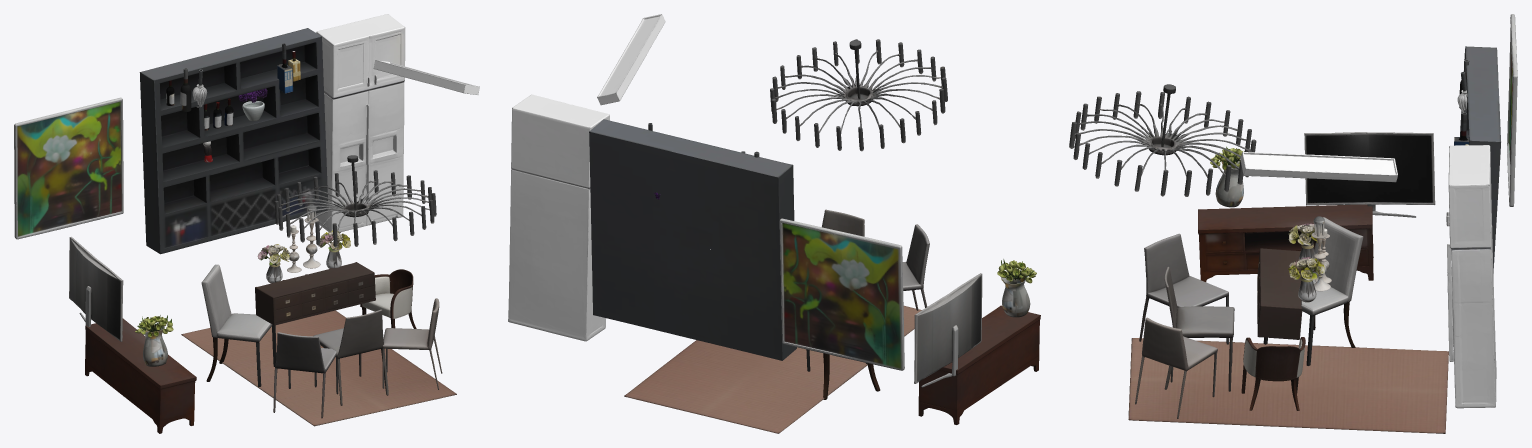
Rendered from sam3d.glb.
3 renders of one model, left to right at view 1: azimuth 30°, elevation 25°; view 2: azimuth 150°, elevation 25°; view 3: azimuth 270°, elevation 25°, orthographic. The views are drawn at different scales.
Visible parts, largest first — view 1: object_9, object_27, object_4, object_2, object_6, object_32, object_3, object_1, object_25, object_8, object_11, object_24 (+8 smaller); view 2: object_9, object_27, object_4, object_2, object_6, object_3, object_1, object_43, object_11, object_5, object_8, object_26 (+1 smaller); view 3: object_2, object_27, object_6, object_1, object_3, object_9, object_43, object_32, object_25, object_11, object_10, object_24 (+6 smaller).
Boxes of the visible parts, left/top/right/bottom form: object_9: left=139, top=28, right=328, bottom=254; object_27: left=316, top=14, right=405, bottom=232; object_4: left=14, top=97, right=123, bottom=239; object_2: left=181, top=310, right=456, bottom=426; object_6: left=85, top=318, right=196, bottom=433; object_32: left=255, top=262, right=375, bottom=325; object_3: left=274, top=155, right=436, bottom=247; object_1: left=69, top=237, right=123, bottom=341; object_25: left=201, top=264, right=276, bottom=386; object_8: left=313, top=309, right=388, bottom=405; object_11: left=273, top=332, right=338, bottom=418; object_24: left=360, top=269, right=416, bottom=328; object_9: left=589, top=119, right=796, bottom=360; object_27: left=508, top=94, right=609, bottom=341; object_4: left=779, top=218, right=904, bottom=370; object_2: left=624, top=305, right=921, bottom=433; object_6: left=918, top=305, right=1040, bottom=424; object_3: left=770, top=39, right=947, bottom=151; object_1: left=914, top=273, right=982, bottom=387; object_43: left=597, top=14, right=665, bottom=105; object_11: left=902, top=224, right=929, bottom=310; object_5: left=1001, top=272, right=1030, bottom=317; object_8: left=822, top=209, right=864, bottom=236; object_26: left=997, top=259, right=1036, bottom=283; object_2: left=1128, top=338, right=1448, bottom=433; object_27: left=1446, top=145, right=1496, bottom=408; object_6: left=1198, top=204, right=1373, bottom=281; object_1: left=1304, top=132, right=1435, bottom=217; object_3: left=1069, top=84, right=1256, bottom=196; object_9: left=1460, top=46, right=1500, bottom=273; object_43: left=1240, top=152, right=1397, bottom=182; object_32: left=1257, top=248, right=1302, bottom=339; object_25: left=1263, top=217, right=1363, bottom=365; object_11: left=1139, top=233, right=1228, bottom=344; object_10: left=1135, top=317, right=1217, bottom=418; object_24: left=1241, top=337, right=1305, bottom=410.
Bounding box in the file's own units: 1.76 × 1.24 × 1.62.
Materials: 32 (32 with a texture image).
